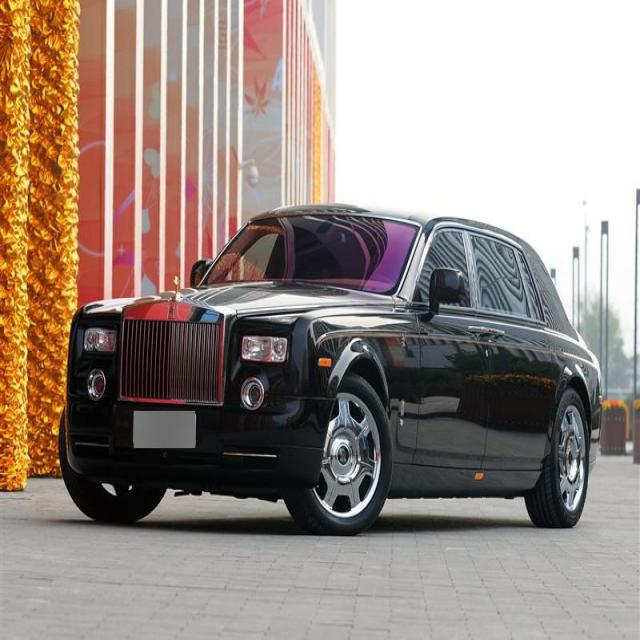door: (468, 226, 549, 476)
front_bumper: (64, 379, 337, 490)
front_glass: (197, 215, 423, 292)
front_left_side_door: (407, 222, 491, 472)
front_left_side_light: (238, 331, 290, 367)
front_left_side_mirror: (426, 267, 465, 315)
front_right_side_light: (80, 323, 119, 355)
front_right_side_mirror: (190, 258, 212, 294)
wheel: (284, 374, 394, 530), (56, 437, 170, 520), (523, 391, 590, 528)
